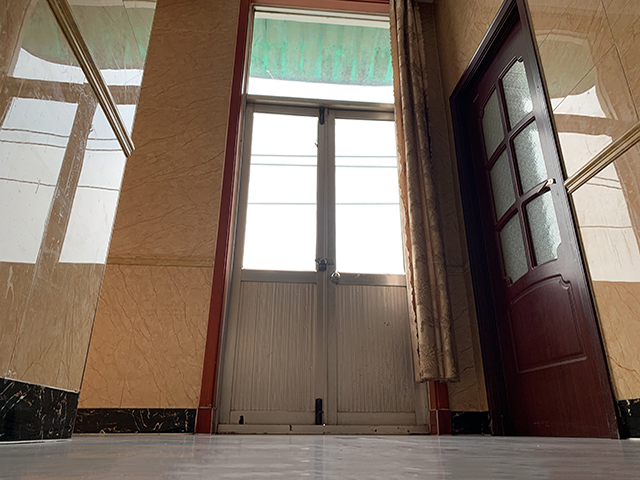curtain: (386, 1, 466, 382)
